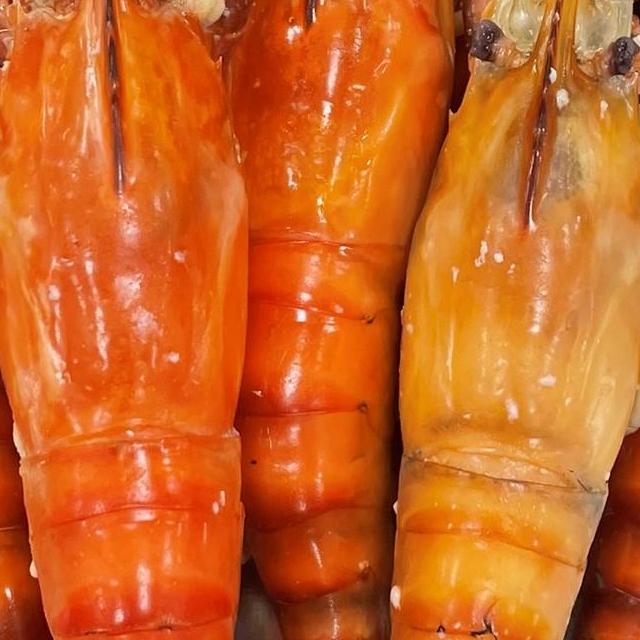tom: (221, 0, 640, 640), (170, 0, 502, 640), (0, 0, 273, 640), (402, 0, 640, 640), (0, 0, 204, 640)
